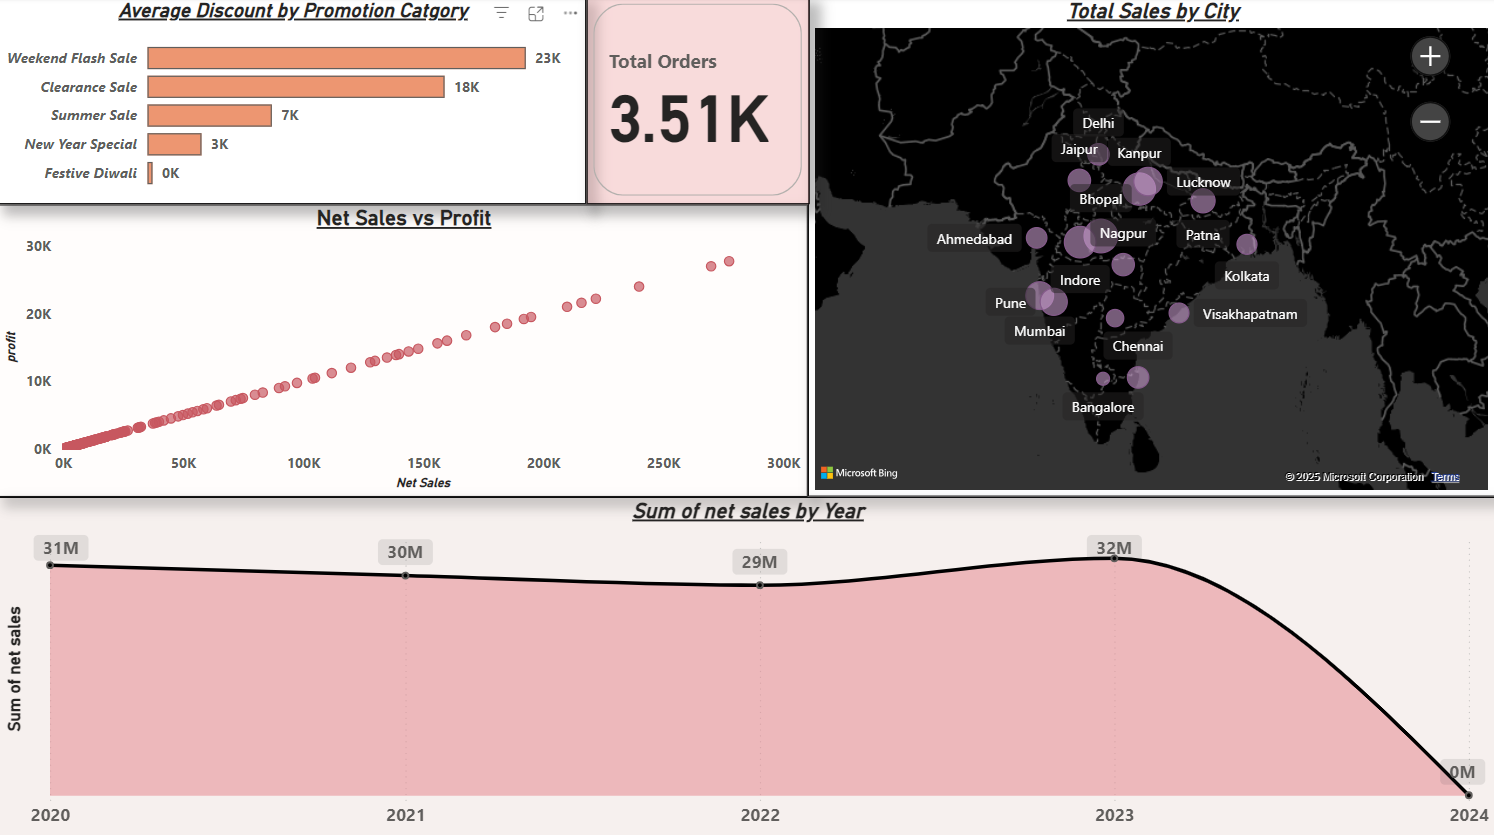

What the dashboard file says about the page in this screenshot:
{"tool":"powerbi","page":{"name":"sales by region,catgory and total order","canvas":[1280,720],"ordinal":0},"visuals":[{"type":"scatterChart","title":"Net Sales vs Profit","fields":{"X":["Fact Table.net sales"],"Y":["Fact Table.profit"]},"box":[0,177,691.6,249.7],"z":0},{"type":"barChart","title":"Average Discount by Promotion Catgory","fields":{"Y":["Avg(Fact Table.discount value )"],"Category":["Dim Promotion.Promotion Name"]},"box":[0,0,502.2,176.7],"z":1000},{"type":"map","title":"Total Sales by City","fields":{"Category":["Dim Customers.City"],"Size":["Sum(Fact Table.net sales)"]},"box":[691.6,0,587.3,426.8],"z":2000},{"type":"cardVisual","title":"Total Orders","fields":{"Data":["Count(Fact Table.Order ID)"]},"box":[502.2,0,190,176.7],"z":3000},{"type":"areaChart","fields":{"Y":["Sum(Fact Table.net sales)"],"Category":["Date Table 1.Date.Variation.Date Hierarchy.Year","Date Table 1.Date.Variation.Date Hierarchy.Quarter","Date Table 1.Date.Variation.Date Hierarchy.Month","Date Table 1.Date.Variation.Date Hierarchy.Day"]},"box":[0,426.7,1278.9,293.3],"z":4000}]}

Visuals, with their boxes in screenshot pixels (x1, y1, x2, y2), scaled from the page's 1280x720 canvas onto the 1494x835 screenshot:
"Net Sales vs Profit" scatterChart: region(0, 205, 807, 495)
"Average Discount by Promotion Catgory" barChart: region(0, 0, 586, 205)
"Total Sales by City" map: region(807, 0, 1493, 495)
"Total Orders" cardVisual: region(586, 0, 808, 205)
areaChart - Sum(Fact Table.net sales) x Date Table 1.Date.Variation.Date Hierarchy.Year: region(0, 495, 1493, 834)
